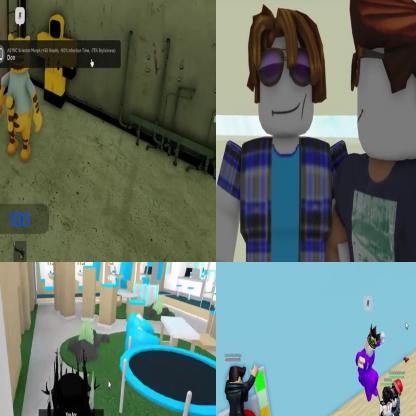Roblox-Avatar: (217, 3, 354, 262), (327, 1, 416, 262), (35, 348, 118, 416), (1, 33, 44, 164), (357, 325, 386, 403), (226, 364, 261, 416), (379, 386, 399, 416), (392, 379, 405, 416)
